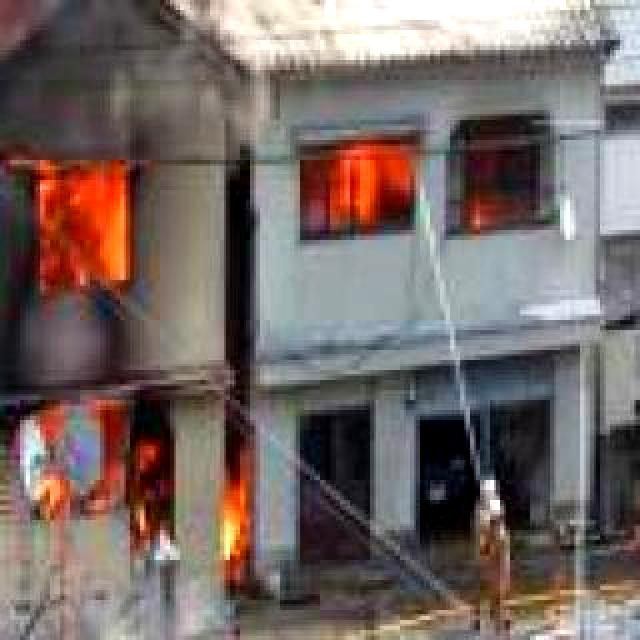fire: (0, 96, 262, 568), (298, 140, 516, 234)
